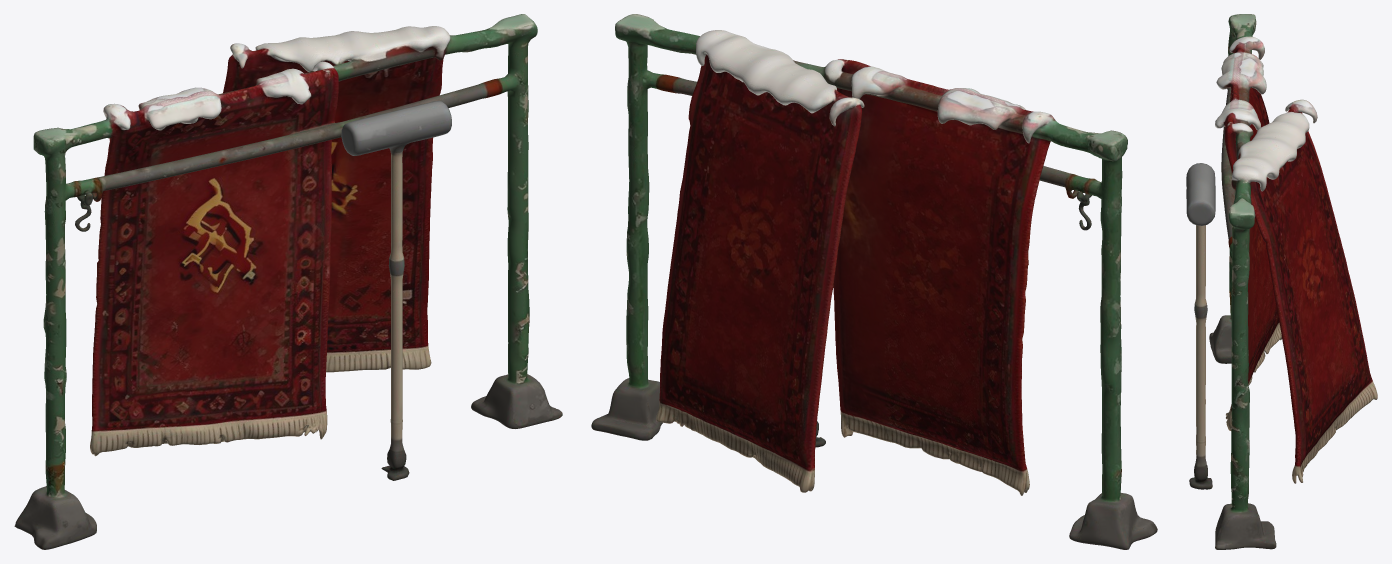
File: g67_carpet_rack.glb
The picture shows the model from 3 angles, left to right: view 1: azimuth 30°, elevation 25°; view 2: azimuth 150°, elevation 25°; view 3: azimuth 270°, elevation 25°; orthographic projection. The views are drawn at different scales.
Parts seen in each view (by area): view 1: tripo_node_a99b5c6a; view 2: tripo_node_a99b5c6a; view 3: tripo_node_a99b5c6a.
Part boxes in pixels (x1,y1,x2,y2): tripo_node_a99b5c6a: (14,14,562,549); tripo_node_a99b5c6a: (591,14,1157,549); tripo_node_a99b5c6a: (1186,14,1377,549).
Size of the model in its own units: 98.39 by 73.63 by 36.99.
1 material, 1 textured.
